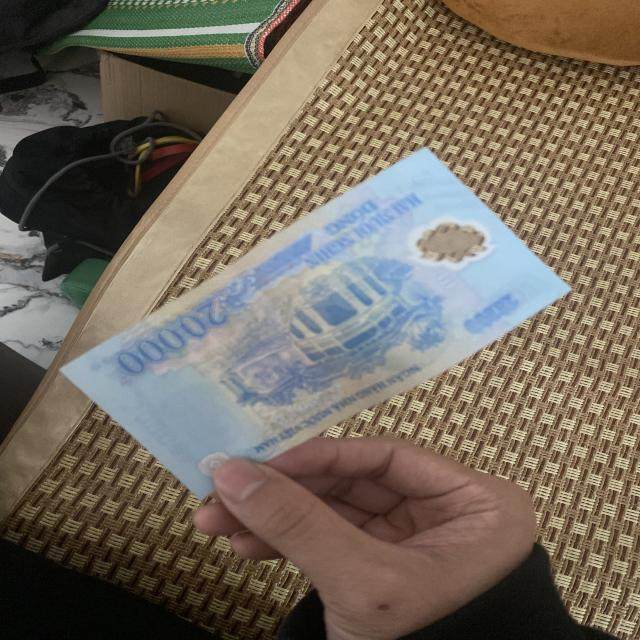20 000 VND: (58, 145, 577, 502)
